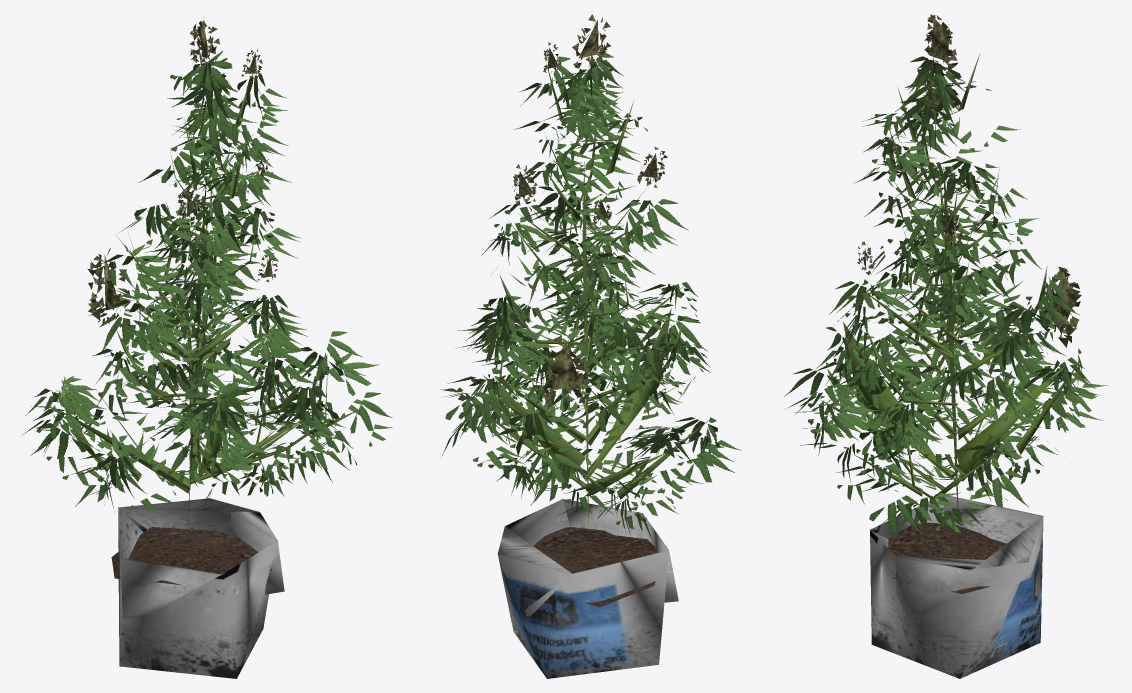
Rendered from cannabis.gltf.
3 views of the same model, side by side, from view 1: azimuth 30°, elevation 25°; view 2: azimuth 150°, elevation 25°; view 3: azimuth 270°, elevation 25° (orthographic). The views are drawn at different scales.
Parts seen in each view (by area): view 1: body; view 2: body; view 3: body.
Boxes of the visible parts, bbox=[...] form: body: bbox=[21, 20, 392, 678]; body: bbox=[440, 14, 741, 678]; body: bbox=[784, 14, 1107, 678].
Bounding box in the file's own units: 0.4334 × 0.8495 × 0.4169.
Materials: 2 (2 with a texture image).
